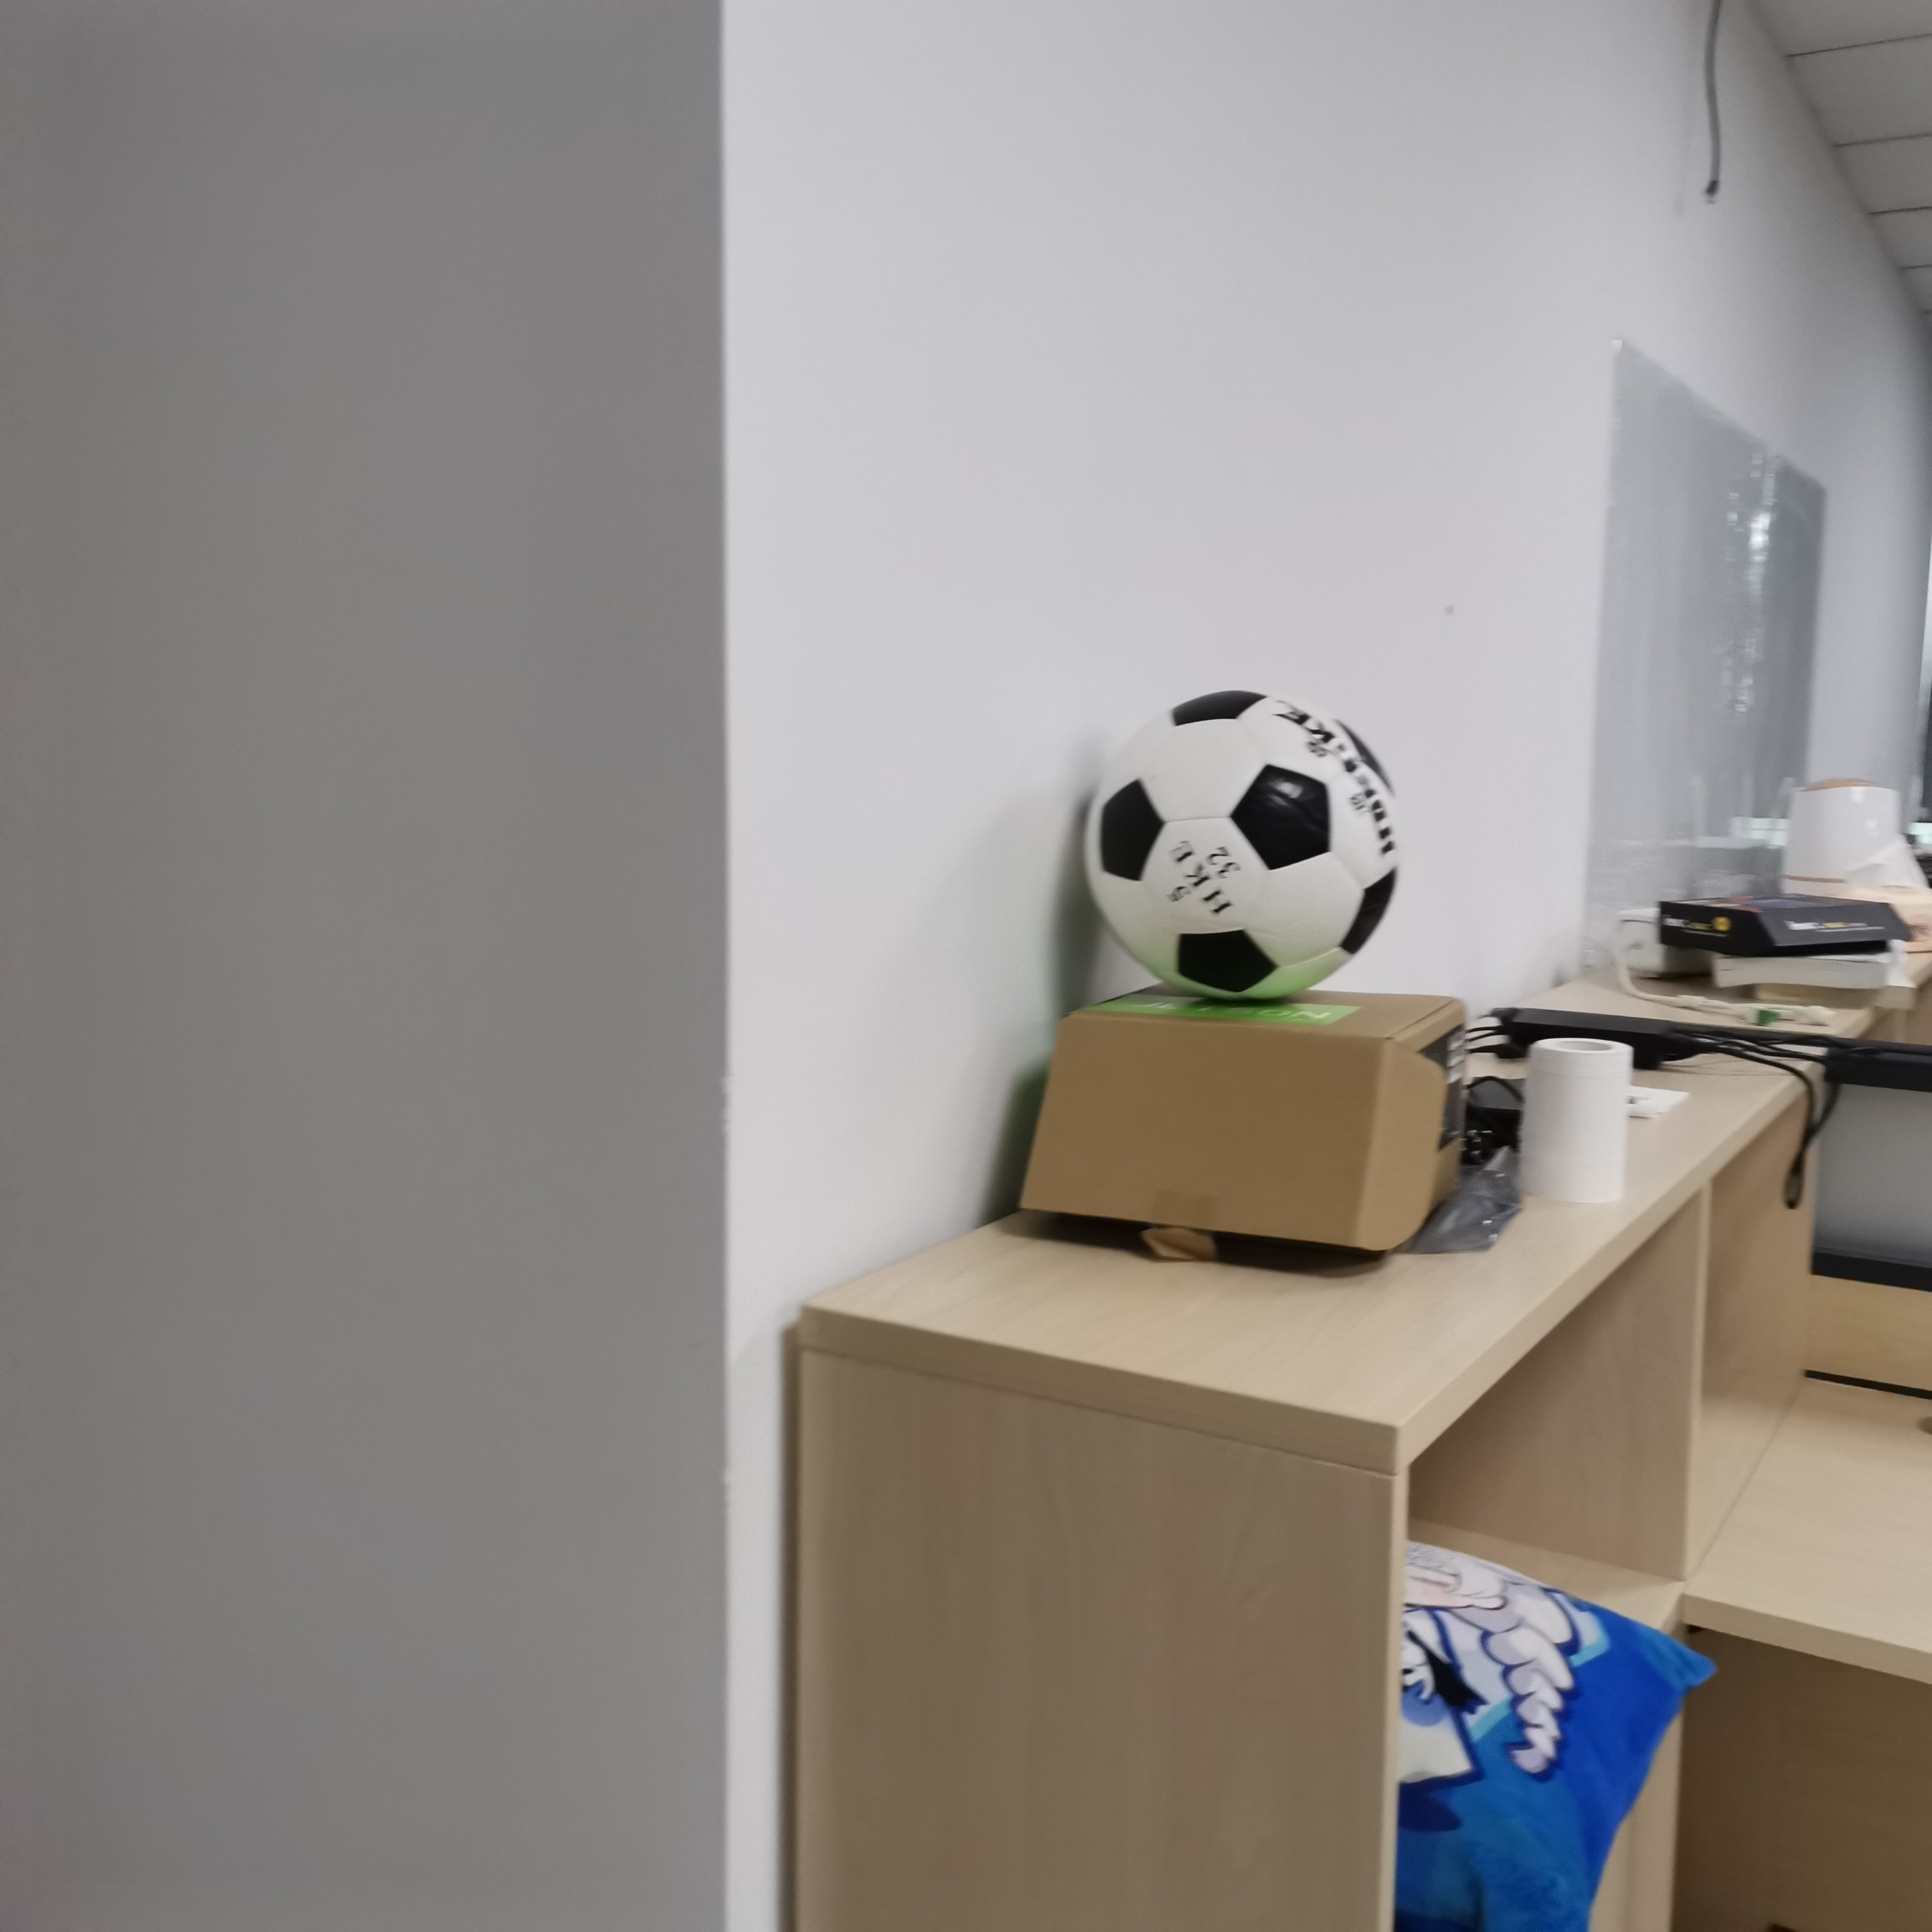football: (1085, 690, 1401, 1007)
